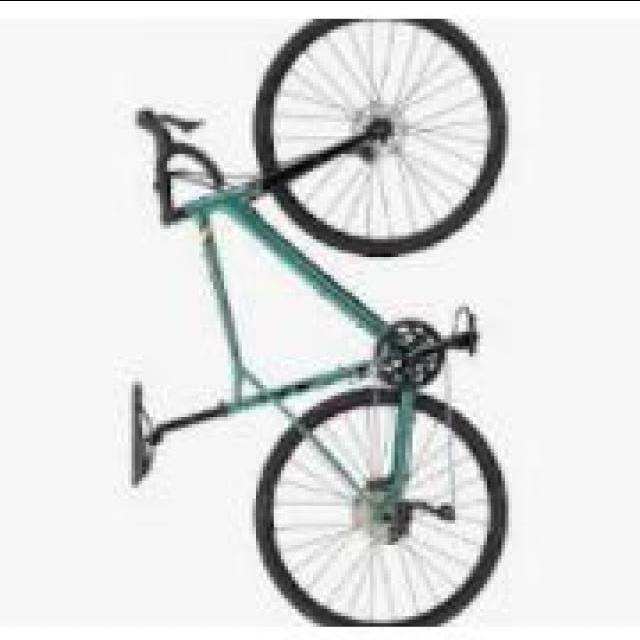bicycle: (111, 36, 499, 626)
